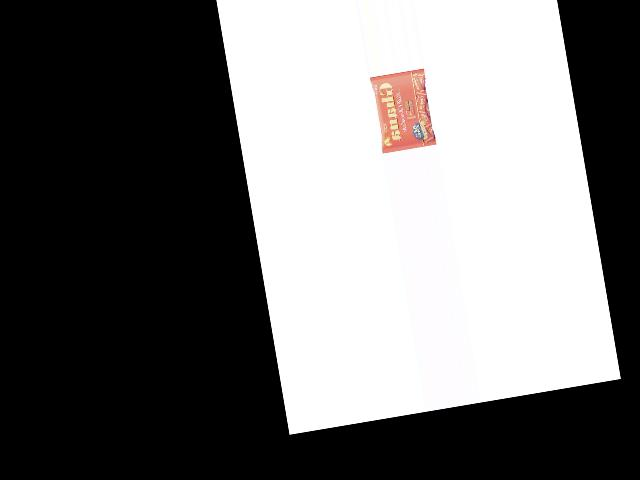chocolate: (371, 69, 438, 154)
